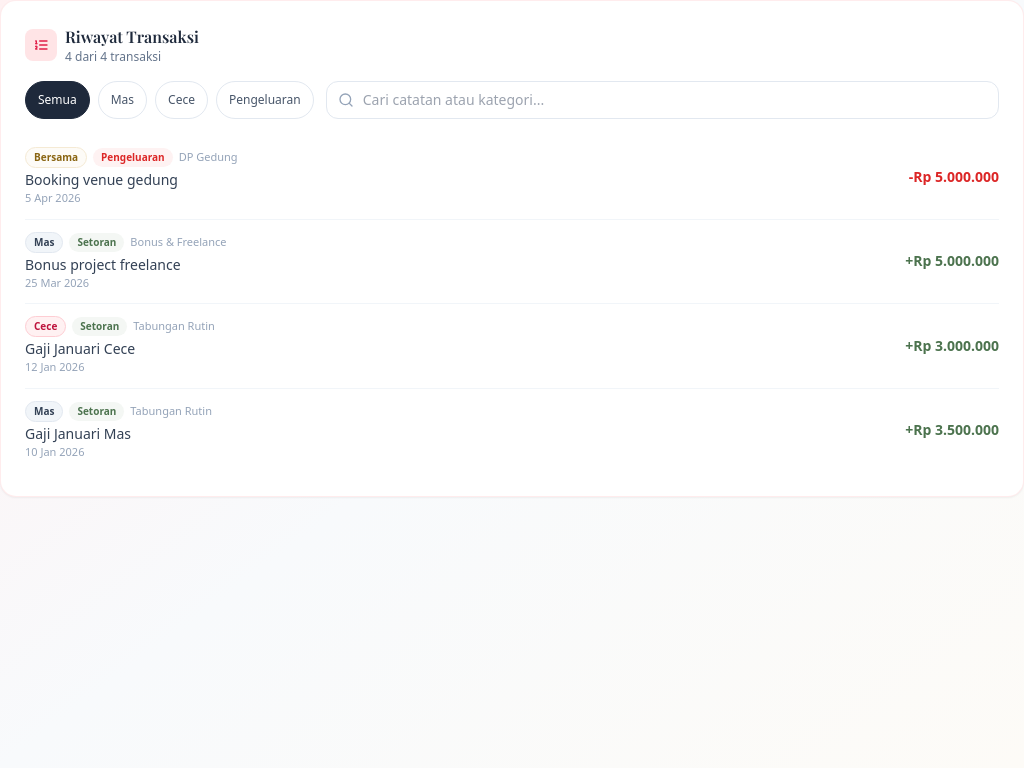
Scenario: TransactionHistory Component › filters by Pengeluaran
The width and height of the screenshot is (1024, 768).
Click the button "Pengeluaran": (265, 100) left=216, top=81, right=314, bottom=119
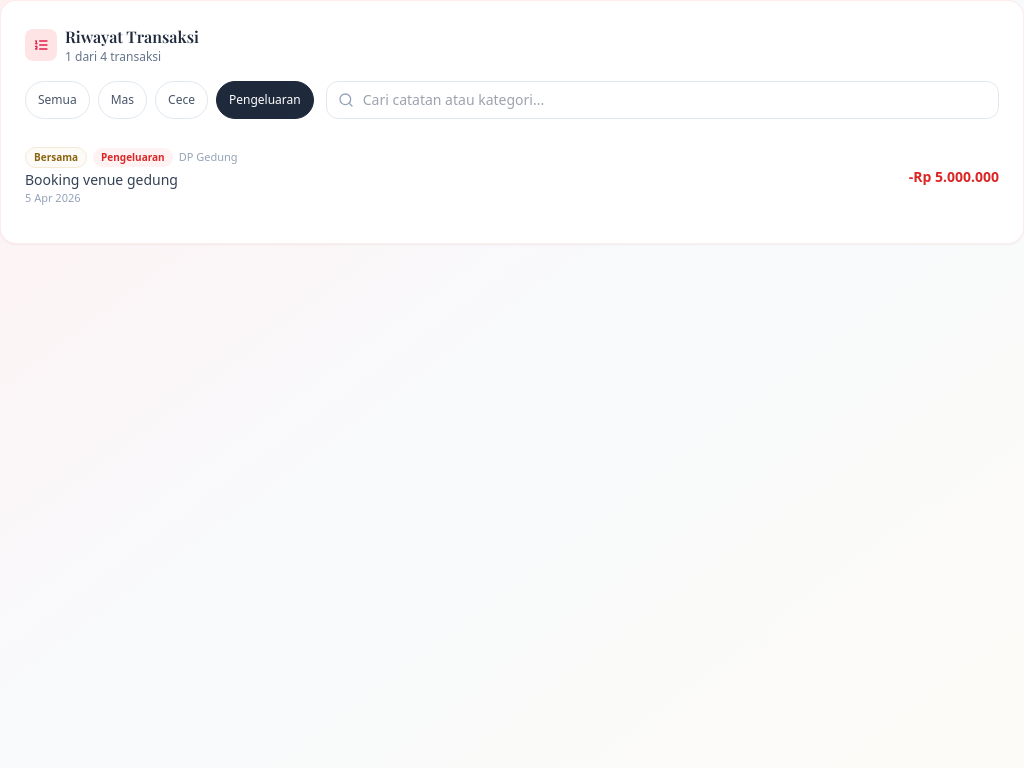
Expected: the list item with test id "tx-row" shows "DP Gedung", left=179, top=149, right=238, bottom=164
Expected: the number of list items with test id "tx-row" is 1, left=25, top=135, right=999, bottom=218
